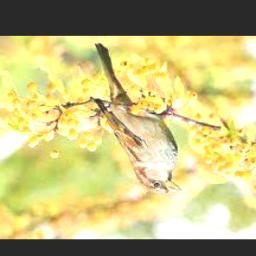Sparrow: (95, 43, 181, 195)
